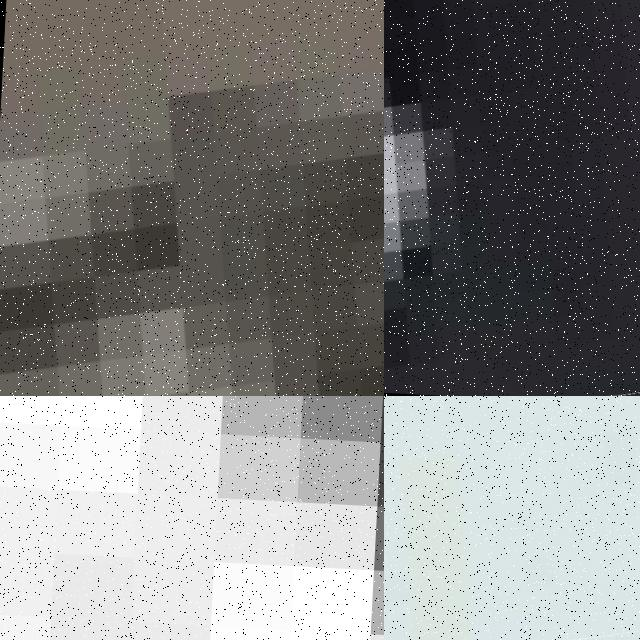drone: (0, 0, 384, 396), (384, 0, 640, 396), (384, 396, 640, 640)
